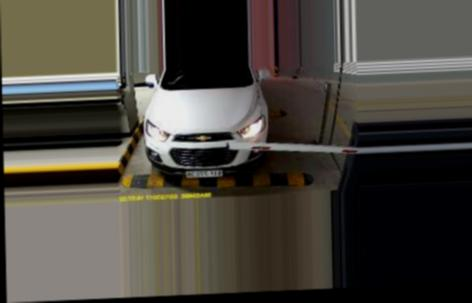License_Plate: (182, 166, 223, 180)
